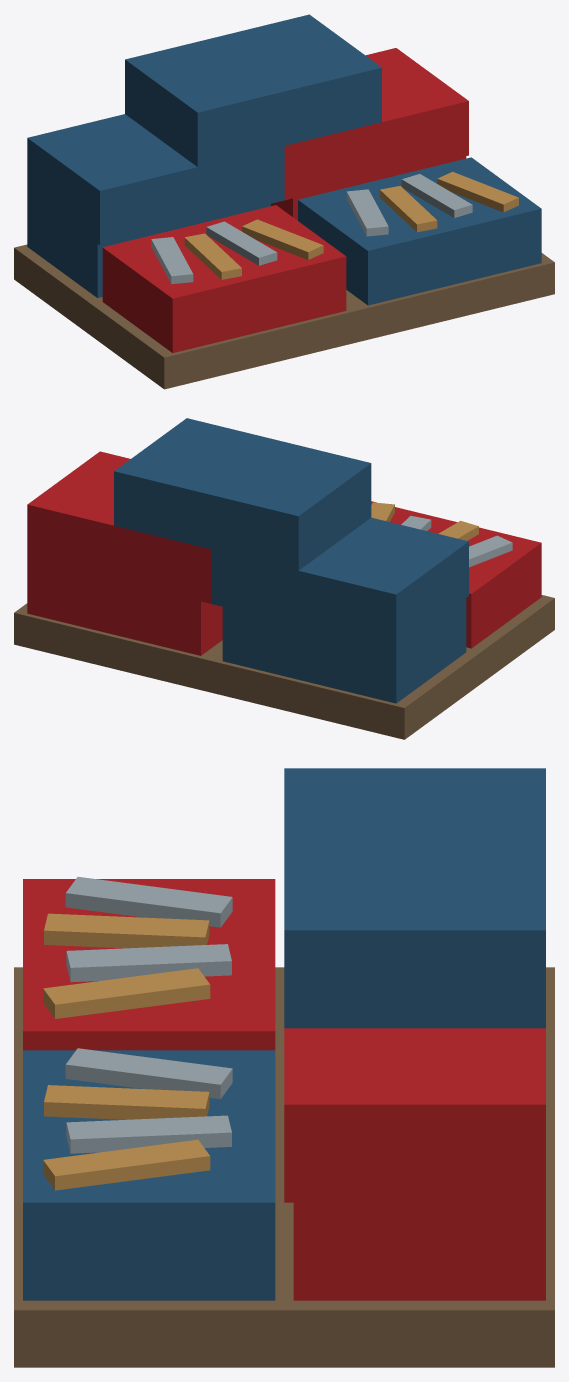
File: hb_fish_crates.glb
3 views of the same model, one above another, from view 1: azimuth 30°, elevation 25°; view 2: azimuth 150°, elevation 25°; view 3: azimuth 270°, elevation 25° (orthographic). The views are drawn at different scales.
Visible parts, largest first — view 1: hb_fish_crates; view 2: hb_fish_crates; view 3: hb_fish_crates.
Boxes of the visible parts, box(x1,y1,x2,y2) form: hb_fish_crates: box(14, 14, 554, 389); hb_fish_crates: box(14, 418, 554, 739); hb_fish_crates: box(14, 768, 554, 1367).
Bounding box in the file's own units: 1.8 × 0.86 × 1.2.
